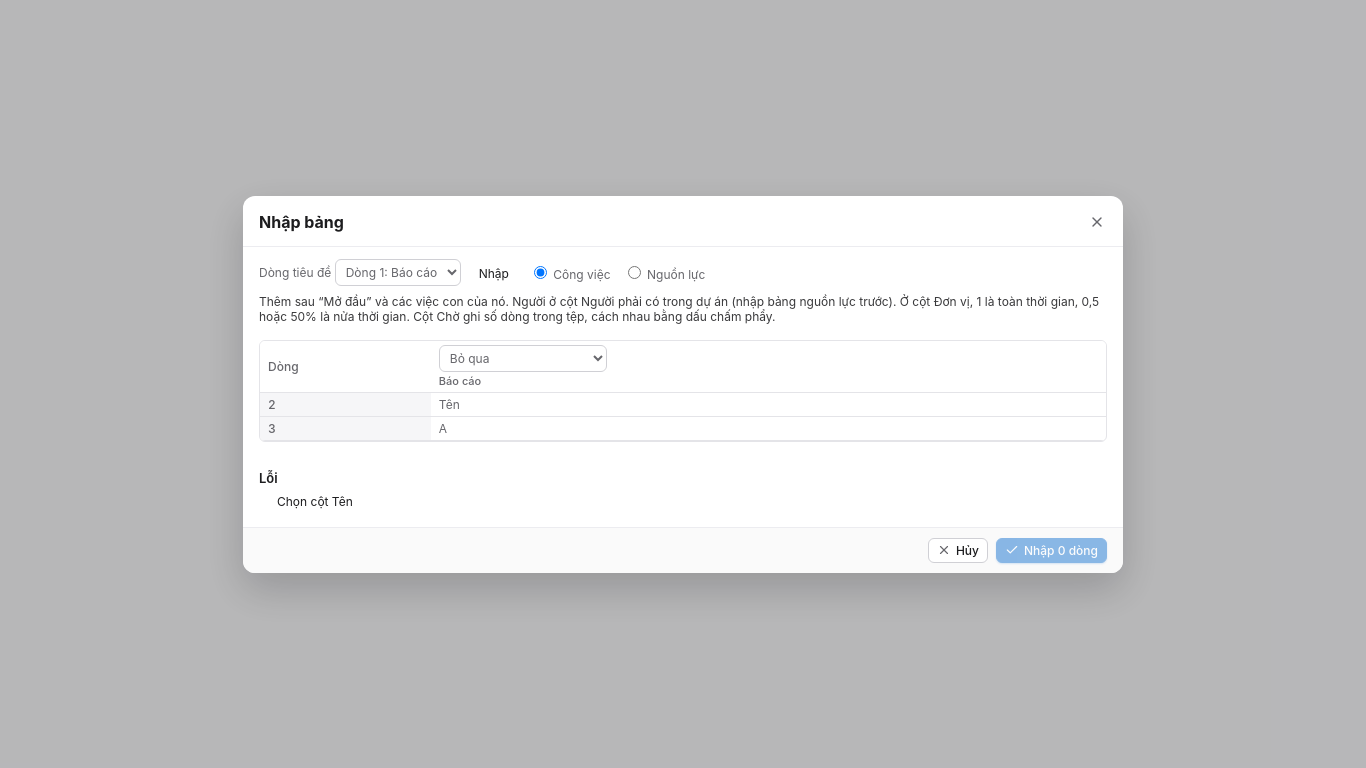
Scenario: ImportDialog › starts the data below the header row chosen
Step 1. Select "Dòng 2: Tên" in the dropdown labelled "Dòng tiêu đề" → x=398, y=272, box x1=335 y1=258 x2=461 y2=286
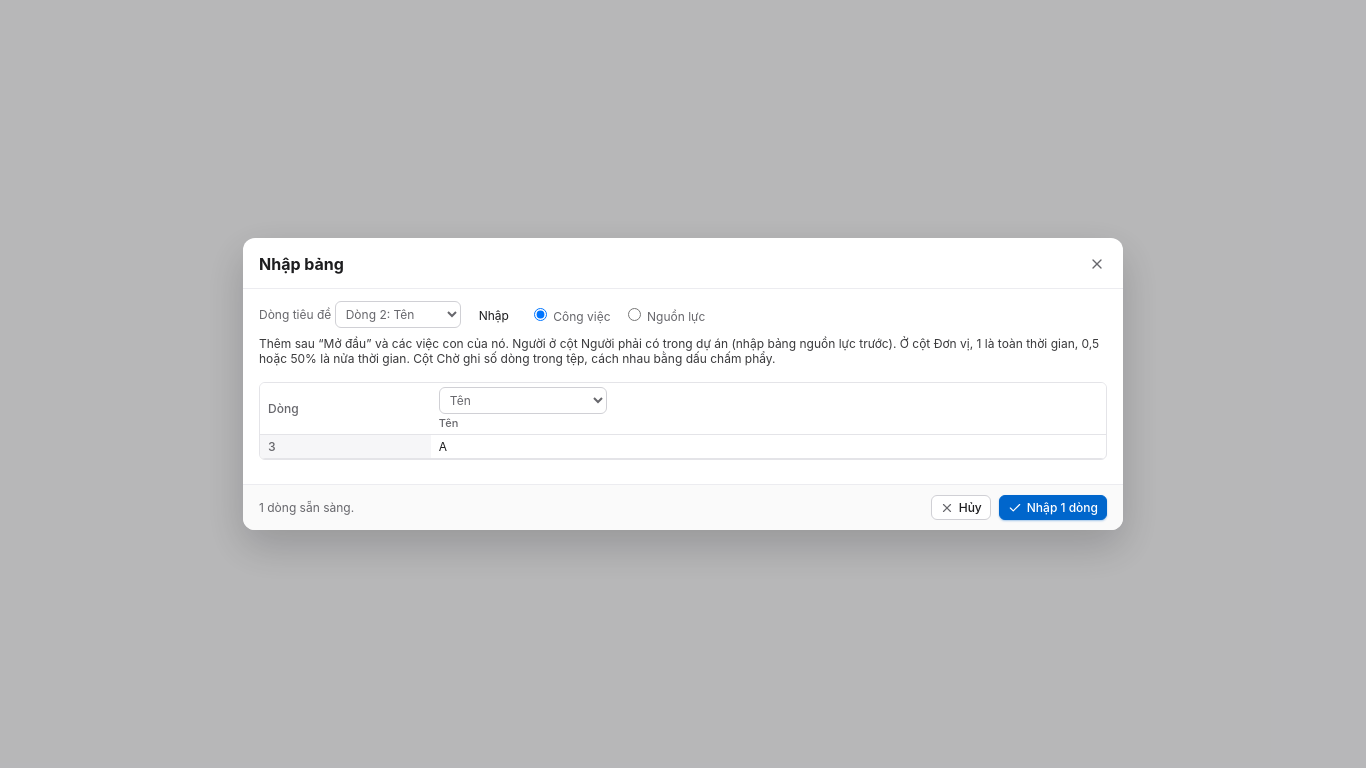
Check: the dropdown named "Cột 1: Tên" shows "Tên", box x1=439 y1=387 x2=607 y2=414
Check: the button "Nhập 1 dòng" is shown, box x1=999 y1=495 x2=1107 y2=520
